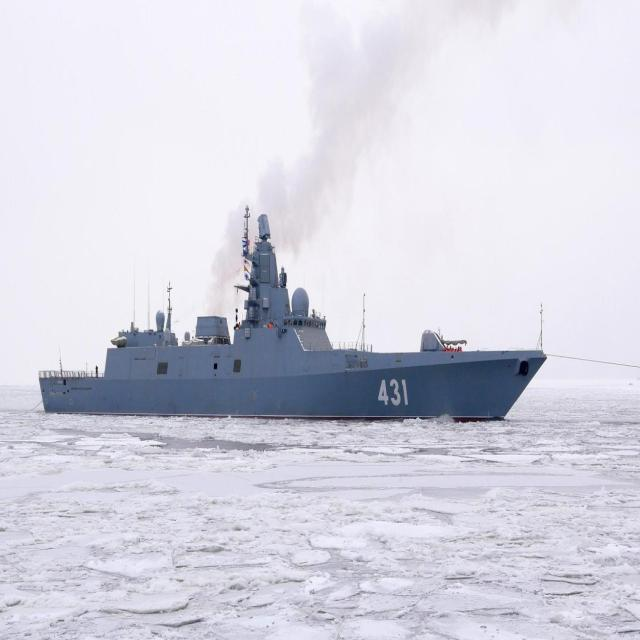navalvessels: (32, 222, 553, 454)
